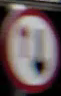Two way: (11, 8, 53, 87)
